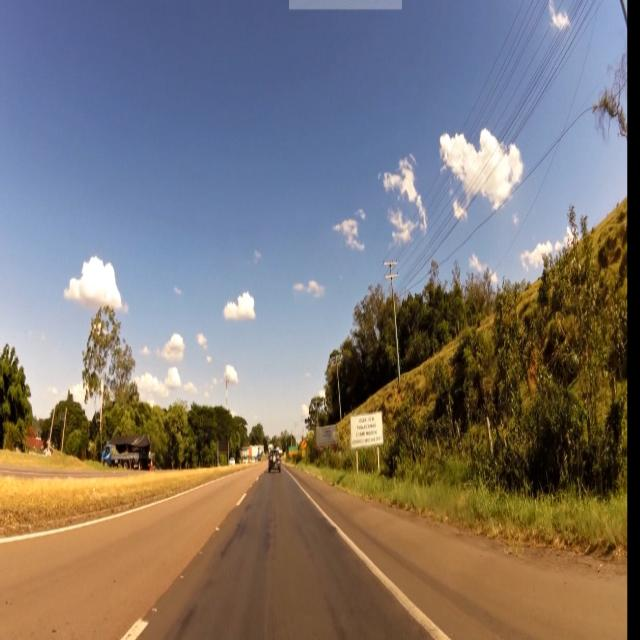E-5: (352, 416, 384, 444)
